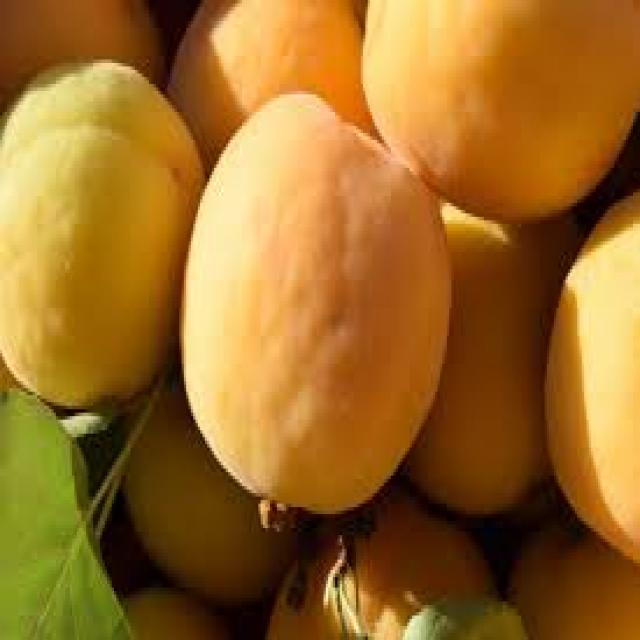organic waste: (175, 88, 449, 514), (0, 52, 202, 405), (356, 0, 637, 220), (396, 196, 570, 517), (119, 367, 293, 602), (161, 0, 386, 175), (542, 185, 638, 563), (258, 489, 496, 636), (0, 384, 126, 636), (0, 0, 165, 105), (502, 514, 638, 637), (119, 580, 232, 636)
